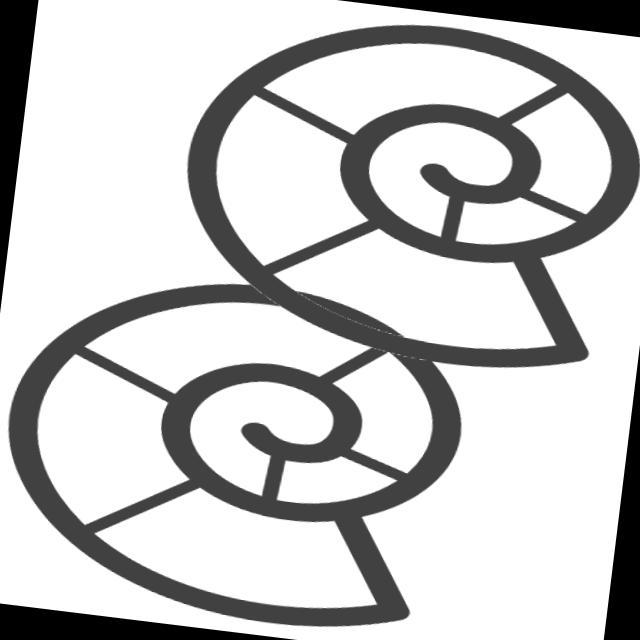fossil: (148, 1, 640, 397), (1, 245, 493, 640)
